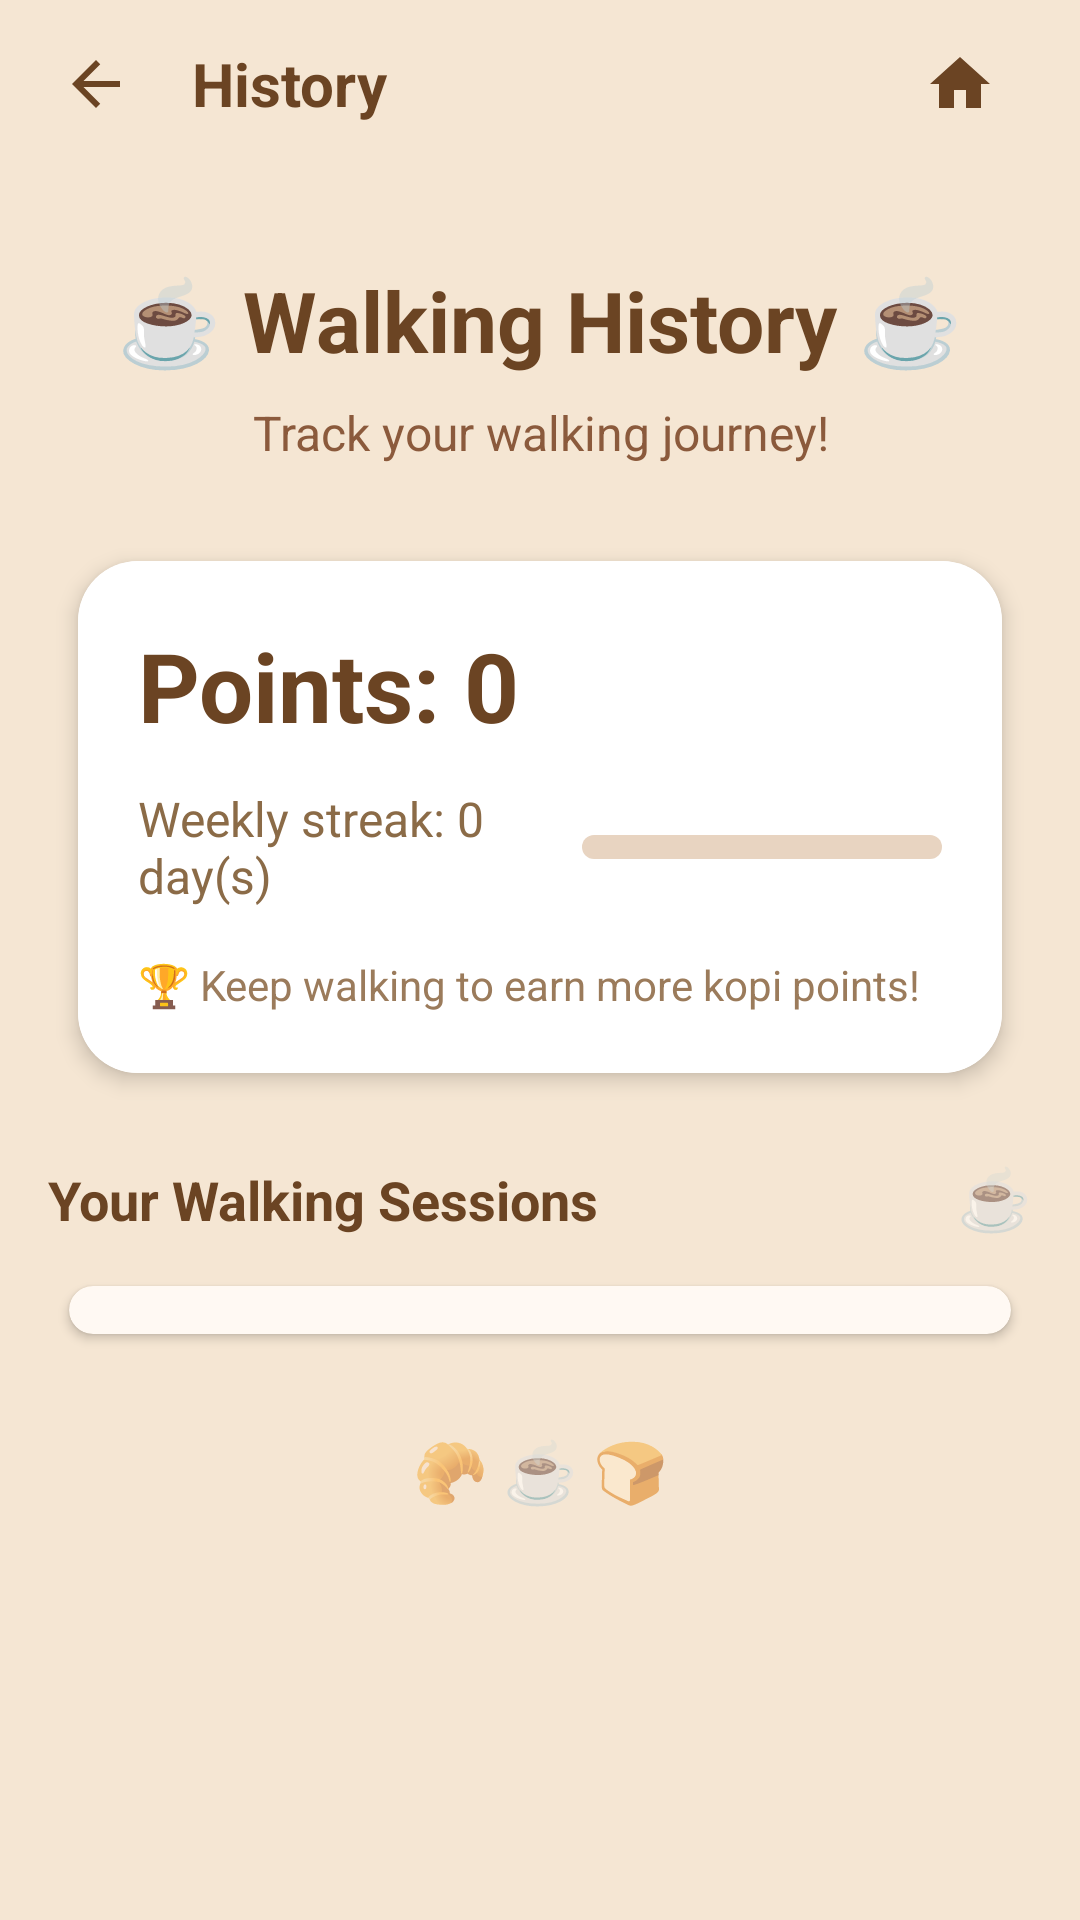

Point at icon controls on the screen. Image size 1080 × 1920, points as point (x, y).
Back: point (96, 84)
Home: point (960, 82)
